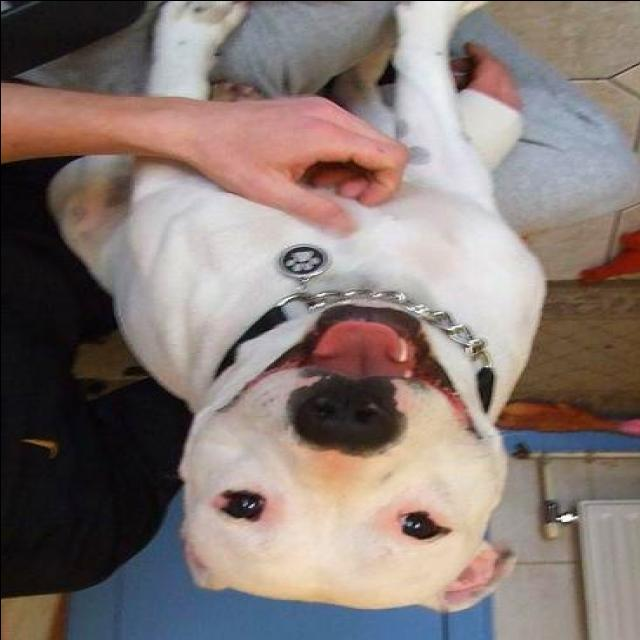staffordshire_bullterrier: (40, 2, 553, 612)
